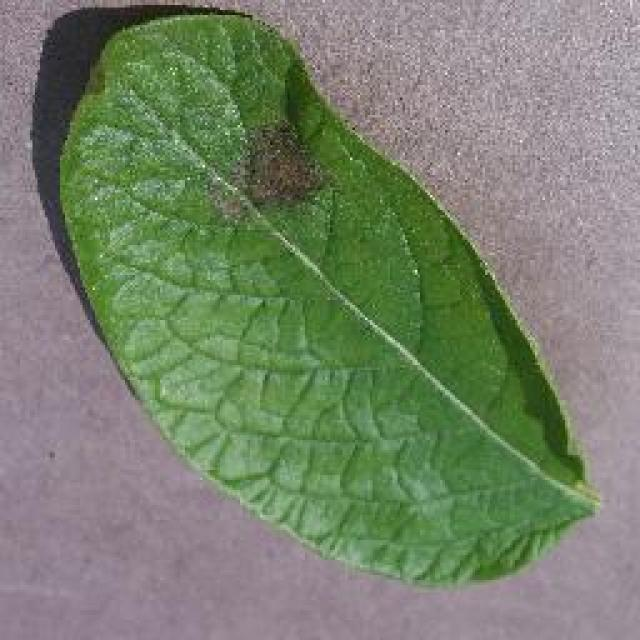Potato: (52, 5, 602, 587)
